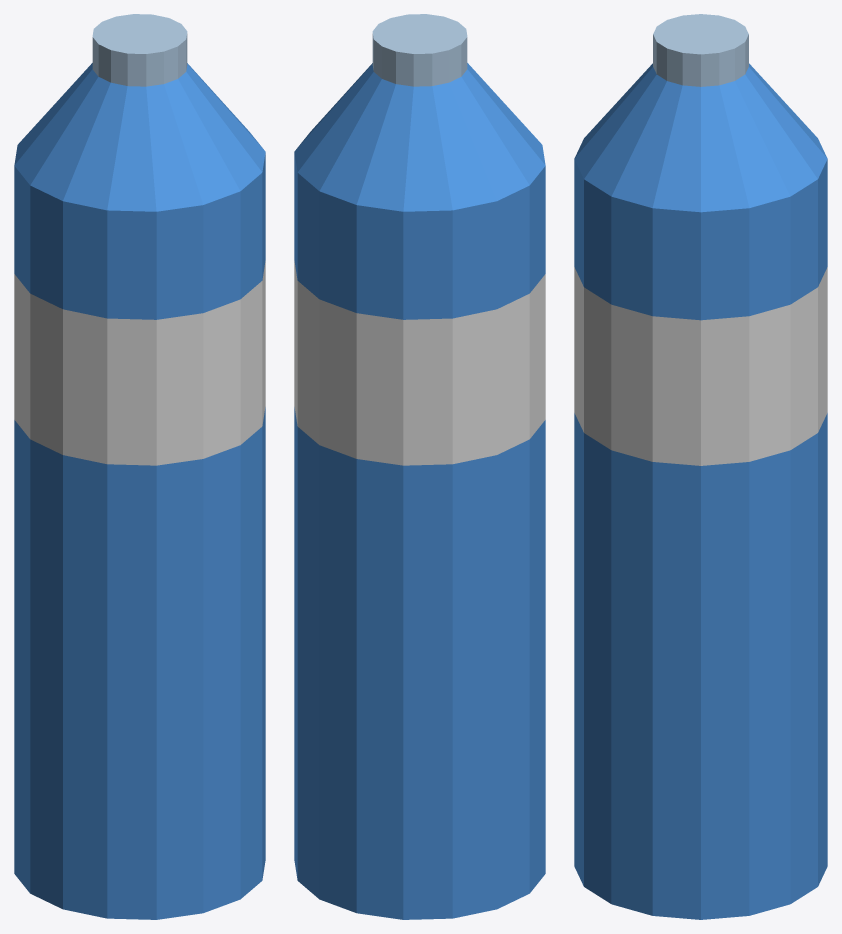
Rendered from bottledwater.fbx.
3 views of the same model, side by side, from view 1: azimuth 30°, elevation 25°; view 2: azimuth 150°, elevation 25°; view 3: azimuth 270°, elevation 25° (orthographic).
Visible parts, largest first — view 1: Bottled Water; view 2: Bottled Water; view 3: Bottled Water.
Part boxes in pixels (<box>): Bottled Water: <box>14,14,265,919</box>; Bottled Water: <box>294,14,545,919</box>; Bottled Water: <box>574,14,827,919</box>.
Bounding box in the file's own units: 7.46 × 27.05 × 7.46.
